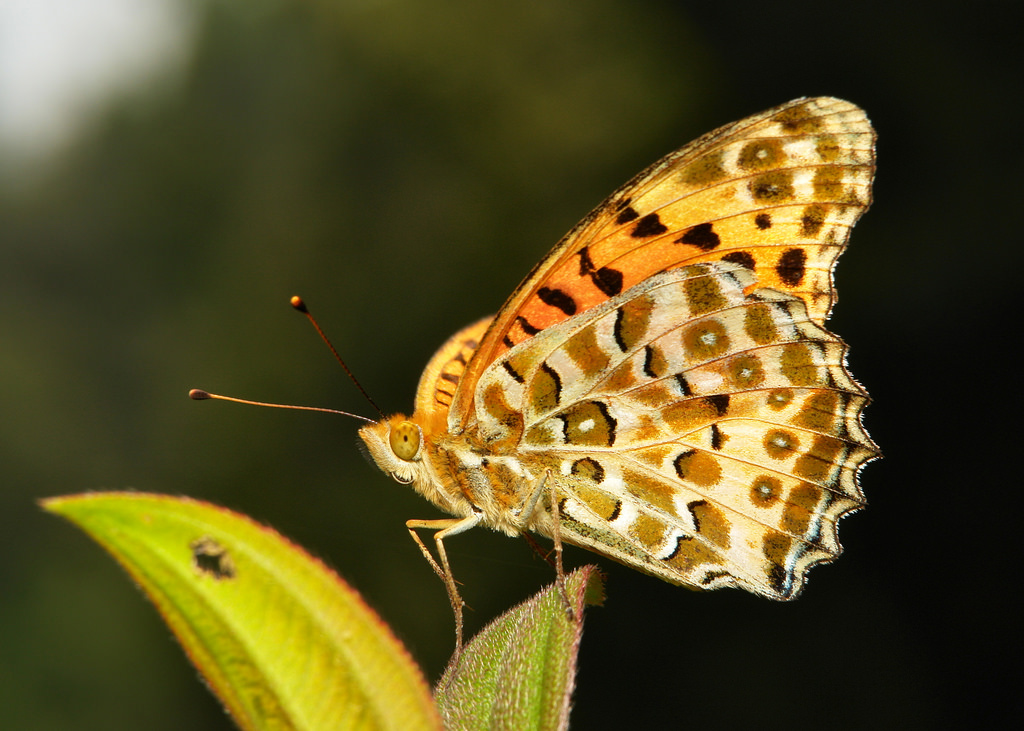Argyreus hyperbius: (190, 78, 900, 640)
butterfly: (192, 80, 902, 642)
